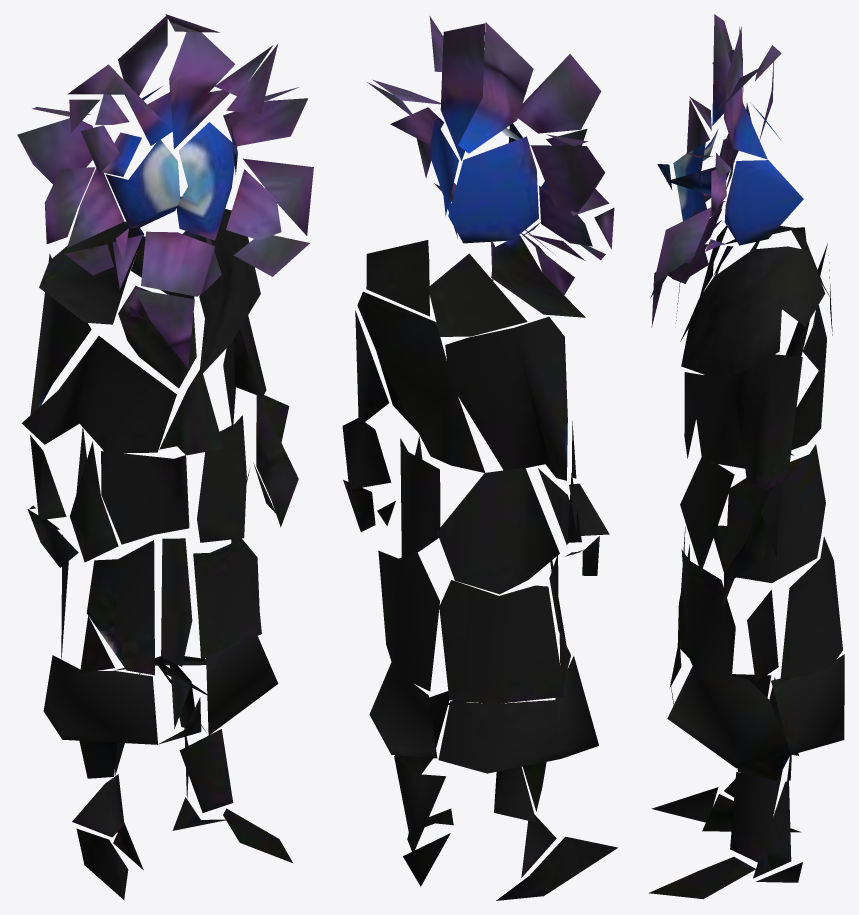
Rendered from crowd_killer_lite.glb.
The picture shows the model from 3 angles, left to right: view 1: azimuth 30°, elevation 25°; view 2: azimuth 150°, elevation 25°; view 3: azimuth 270°, elevation 25°; orthographic projection.
Parts seen in each view (by area): view 1: tripo_node_92d98988-ae27-4de5-8fea-5e40f77b48db; view 2: tripo_node_92d98988-ae27-4de5-8fea-5e40f77b48db; view 3: tripo_node_92d98988-ae27-4de5-8fea-5e40f77b48db.
Part boxes in pixels (bbox=[...]): tripo_node_92d98988-ae27-4de5-8fea-5e40f77b48db: bbox=[17, 14, 313, 899]; tripo_node_92d98988-ae27-4de5-8fea-5e40f77b48db: bbox=[342, 16, 617, 900]; tripo_node_92d98988-ae27-4de5-8fea-5e40f77b48db: bbox=[648, 14, 844, 899].
Bounding box in the file's own units: 0.6162 × 1.86 × 0.3936.
Materials: 1 (1 with a texture image).
